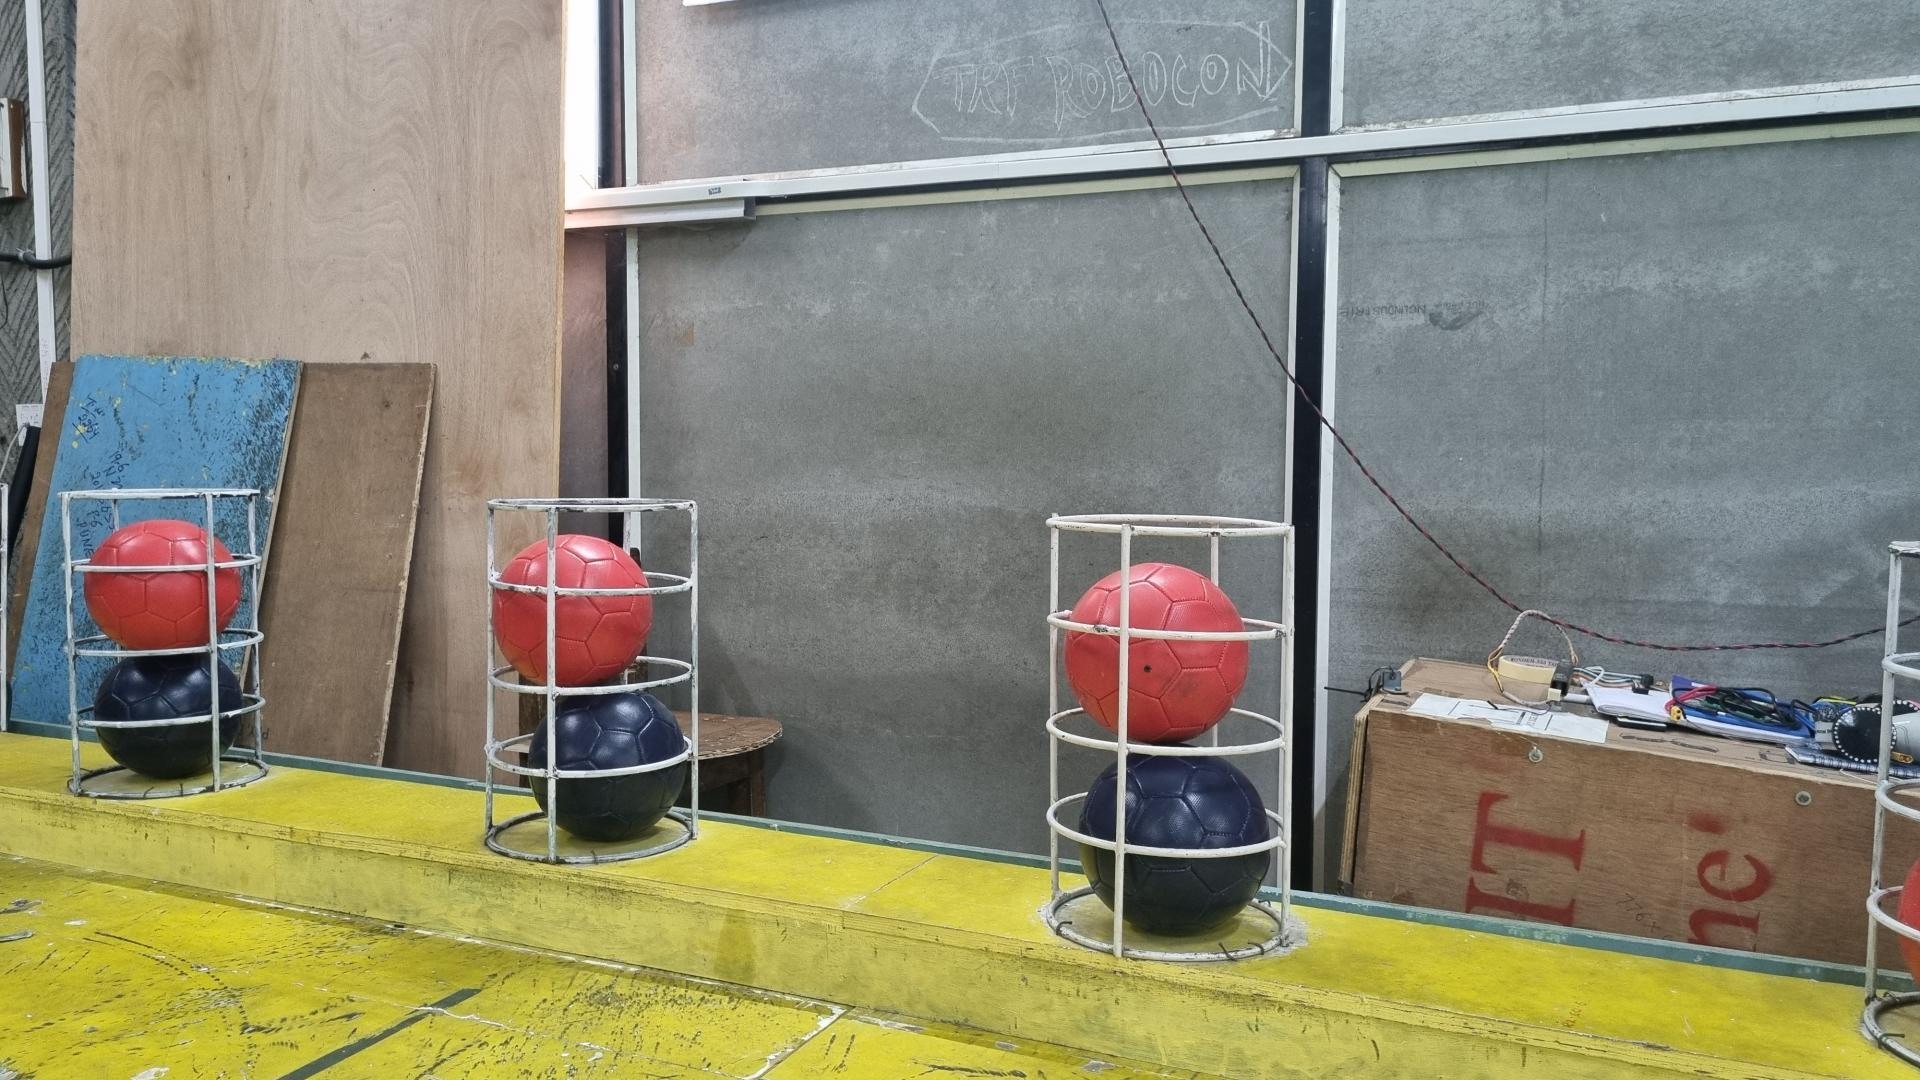dhoka: (1076, 756, 1271, 939), (525, 691, 687, 841), (92, 650, 247, 781)
laale: (1063, 563, 1250, 742), (493, 535, 654, 688), (84, 520, 241, 651), (1894, 858, 1920, 989)
